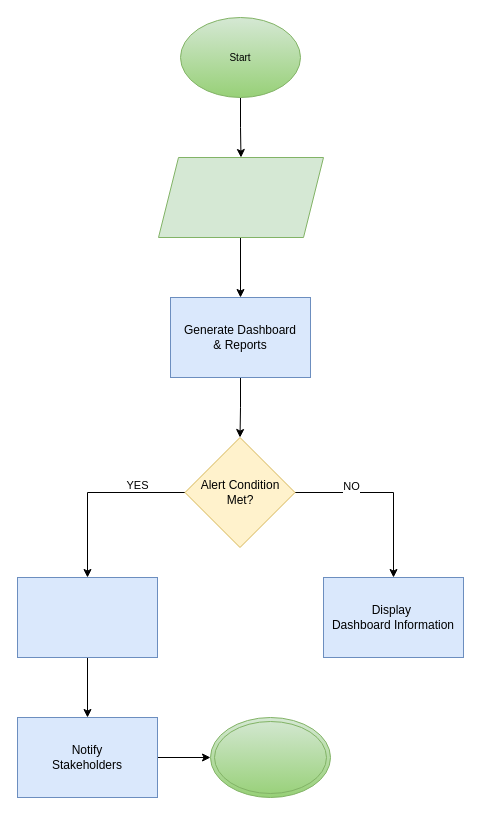
Image size: 481x815. Some labels were removed from this diagram. The shapes that lost their labels are listed below. From the top down, each one's box as (x1, y1, x2, y2) in pixels, then its label:
(158, 156, 324, 238): Compliance, Performance & Risk Data
(16, 576, 158, 658): Generate Alert
(210, 716, 330, 798): End
